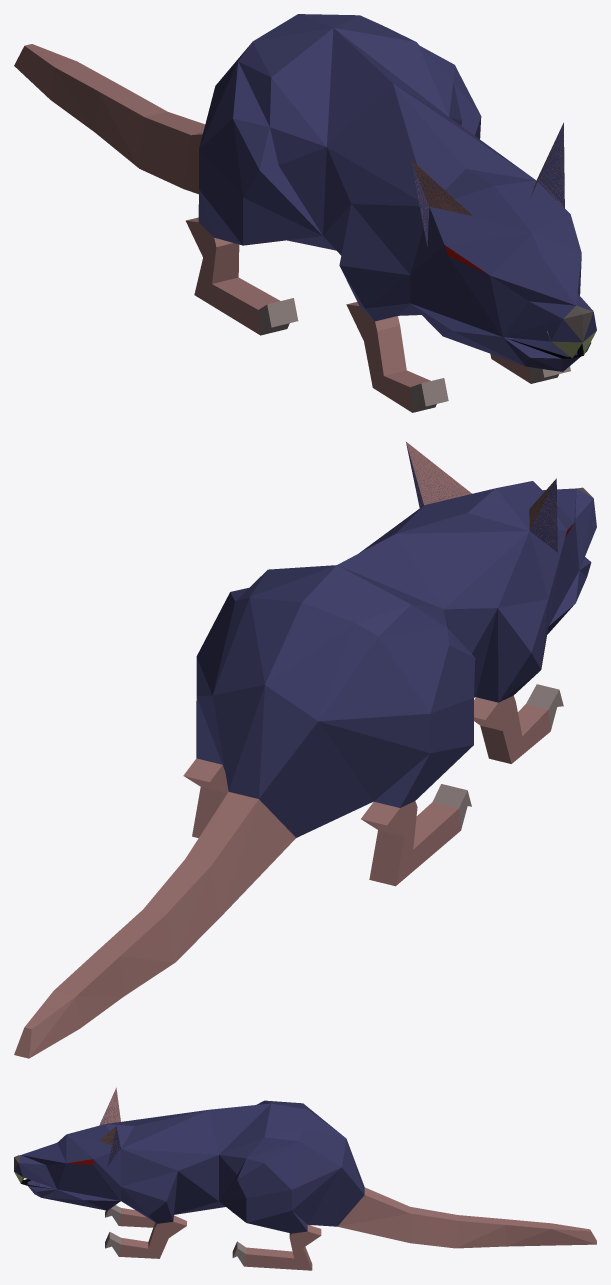
The model's file is model_2959_npc.obj.
3 renders of one model, top to bottom at view 1: azimuth 30°, elevation 25°; view 2: azimuth 150°, elevation 25°; view 3: azimuth 270°, elevation 25°, orthographic. The views are drawn at different scales.
Visible parts, largest first — view 1: 2959; view 2: 2959; view 3: 2959.
Boxes of the visible parts, <box> form: 2959: <box>14,14,596,412</box>; 2959: <box>14,442,596,1058</box>; 2959: <box>14,1087,596,1270</box>.
Bounding box in the file's own units: 62 × 68 × 256.
